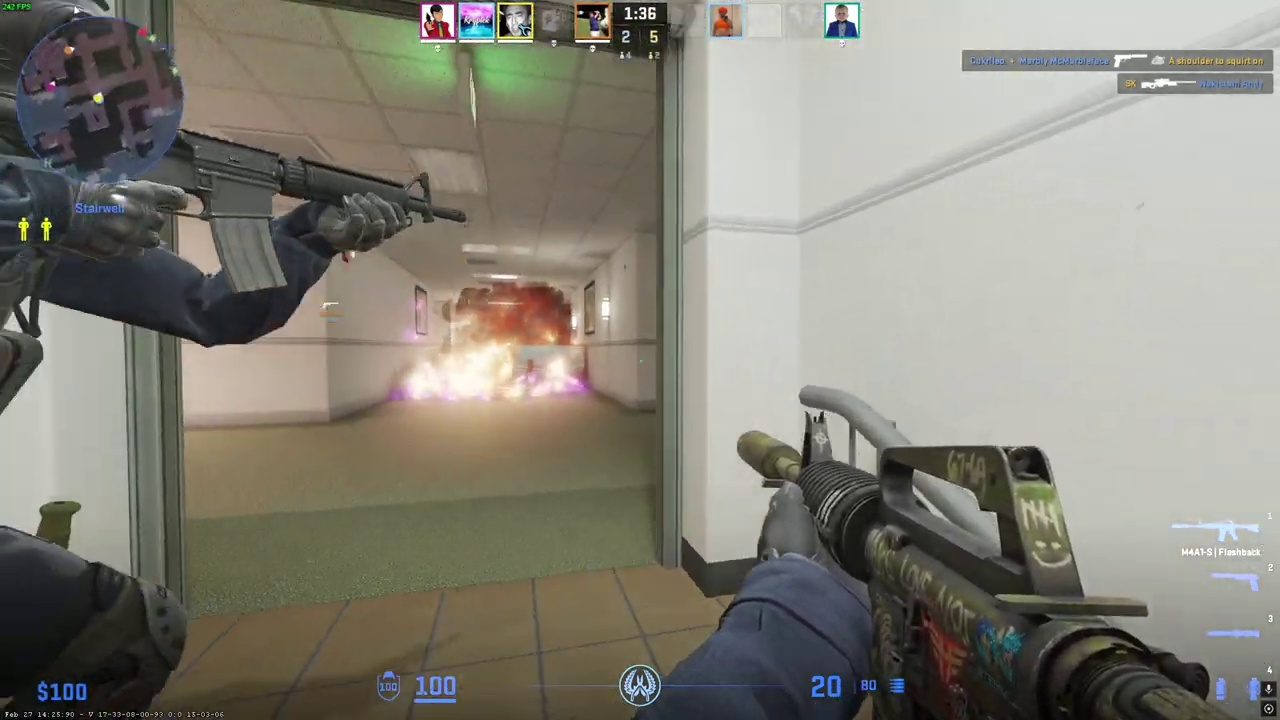CT: (0, 1, 209, 720)
